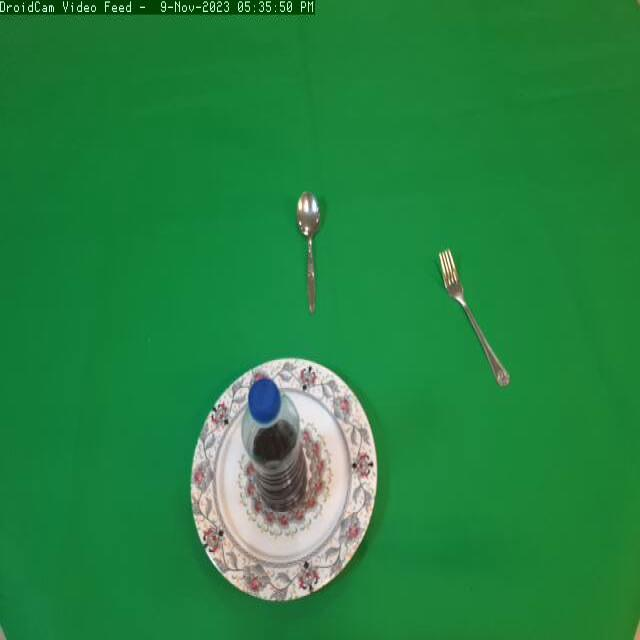fork: (434, 242, 525, 394)
fullbottle: (233, 356, 316, 530)
plate: (184, 347, 387, 609)
spoon: (294, 186, 336, 319)
